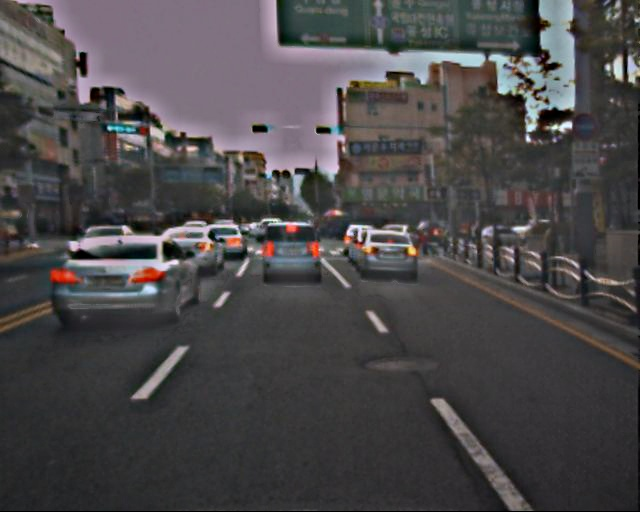person: (535, 217, 563, 286)
